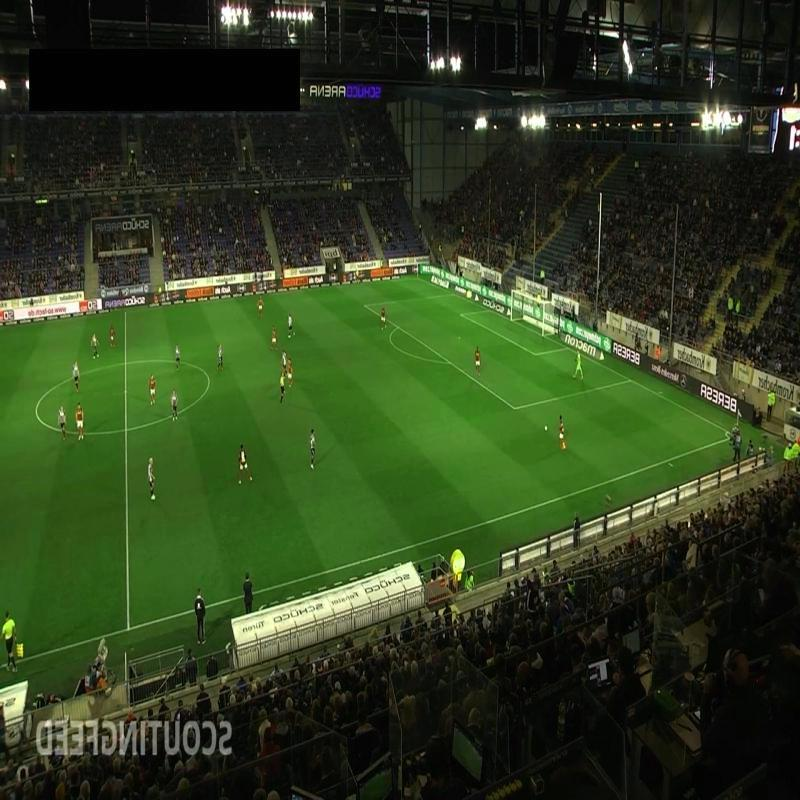1: (410, 272, 424, 286)
10: (392, 320, 406, 334)
11: (443, 356, 457, 370)
12: (508, 402, 522, 416)
13: (118, 305, 132, 318)
14: (118, 356, 132, 370)
15: (118, 423, 132, 438)
16: (121, 622, 135, 636)
2: (448, 288, 462, 302)
3: (484, 304, 499, 318)
4: (561, 340, 575, 353)
5: (624, 372, 638, 386)
7: (454, 308, 468, 322)
8: (528, 348, 542, 362)
9: (358, 299, 372, 312)
c: (30, 404, 44, 418), (202, 372, 215, 386)
